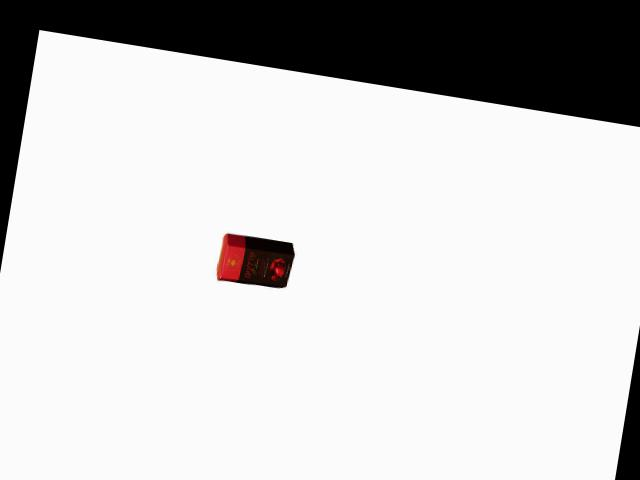chocolate: (212, 229, 303, 293)
